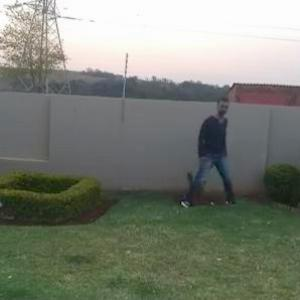follow: (192, 94, 228, 214)
